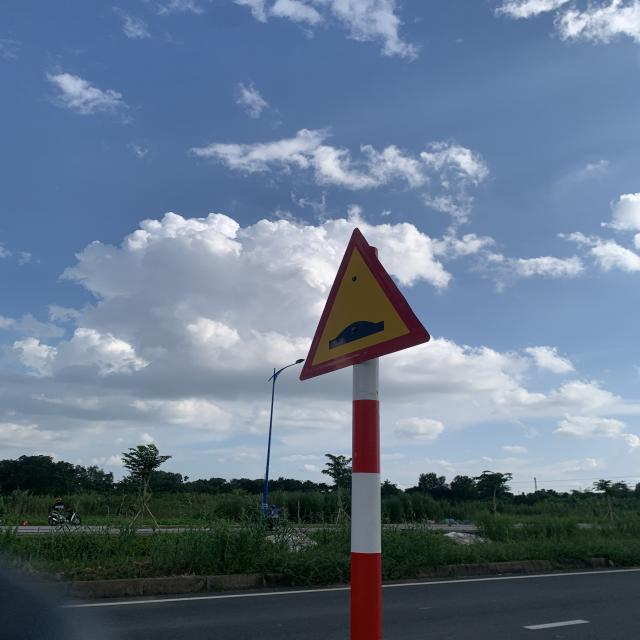Duong_Cong_Ben_Phai: (296, 228, 430, 380)
